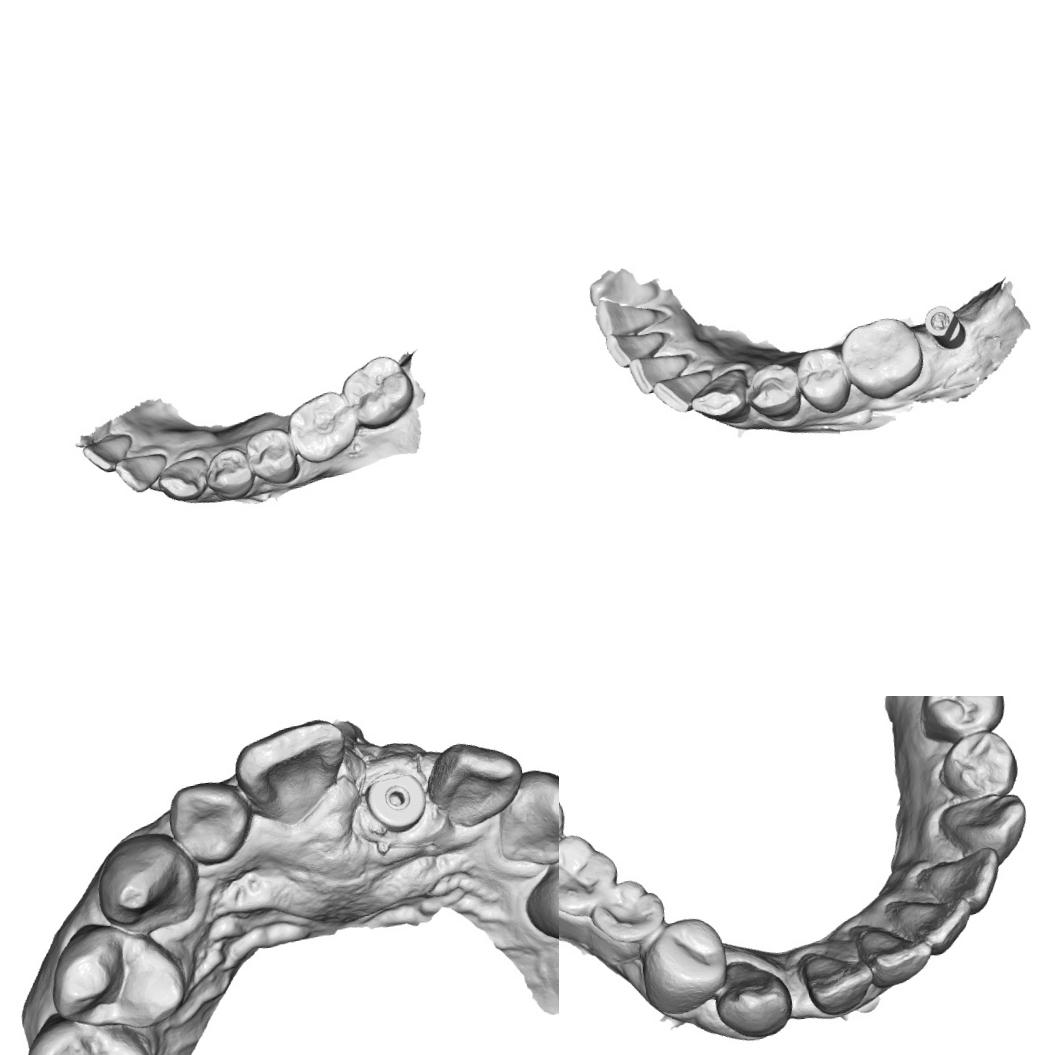canine: (88, 827, 203, 938), (487, 759, 559, 874), (710, 954, 798, 1043), (936, 789, 1029, 865), (686, 366, 754, 431), (154, 453, 212, 505)
implant: (362, 765, 432, 836), (920, 299, 968, 354)
incisor: (230, 716, 356, 832), (424, 734, 528, 832), (164, 776, 256, 870), (800, 946, 880, 1020), (894, 890, 978, 959), (856, 918, 934, 992), (924, 844, 1002, 915), (592, 291, 662, 338), (650, 367, 716, 416), (603, 327, 668, 371), (628, 352, 689, 398), (78, 431, 136, 476), (113, 451, 169, 496)
molar: (838, 313, 928, 404), (559, 828, 624, 935), (338, 350, 420, 434), (284, 387, 362, 467)
premolar: (41, 910, 190, 1040), (637, 913, 731, 1016), (582, 874, 674, 965), (18, 1005, 155, 1055), (936, 728, 1020, 802), (515, 832, 559, 951), (794, 346, 851, 418), (916, 696, 1008, 740), (744, 359, 802, 427), (244, 424, 300, 488), (202, 443, 256, 503)
